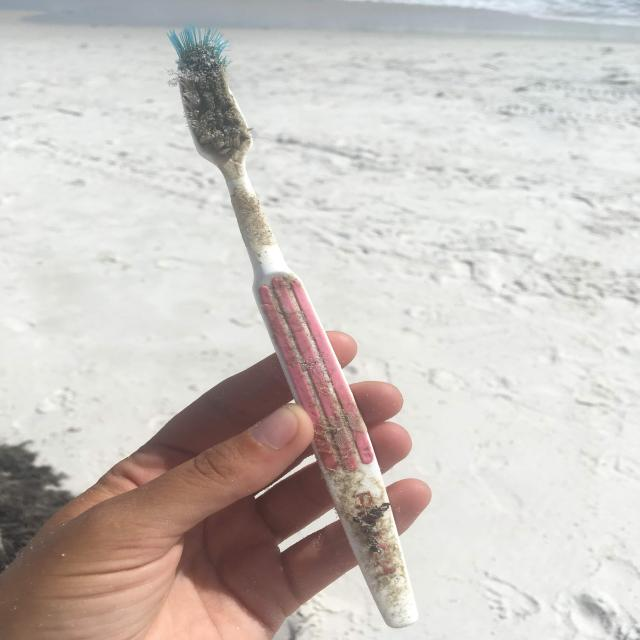litter: (165, 22, 421, 634)
